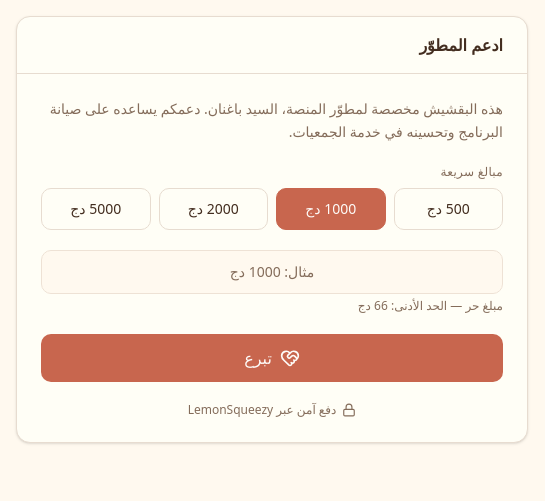
Test: DonationPage › affiche la VRAIE raison retournée par le backend quand le checkout échoue (503 produit non configuré)
Click the button "تبرع". click: (272, 358)
box: [41,334,503,382]
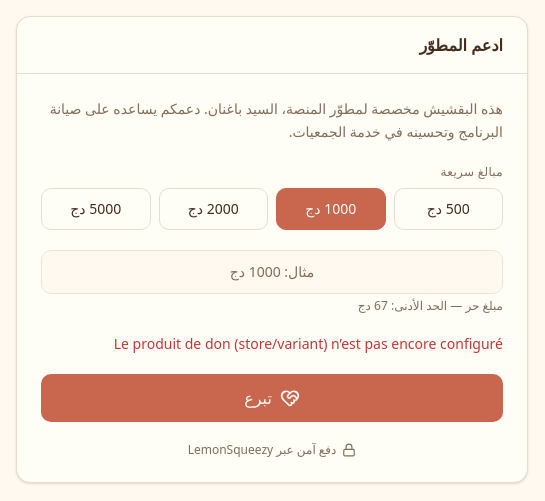
Result: the text "Le produit de don (store/variant) n’est pas encore configuré" is shown at [114,334,503,352]
